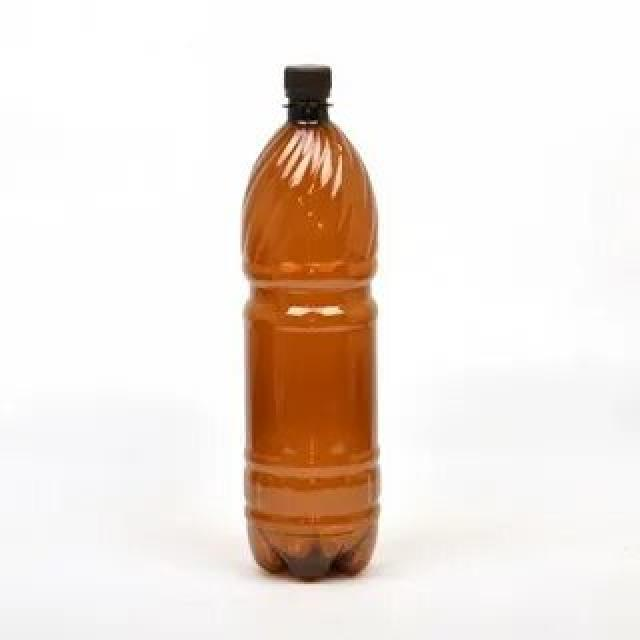brown: (238, 100, 380, 582)
